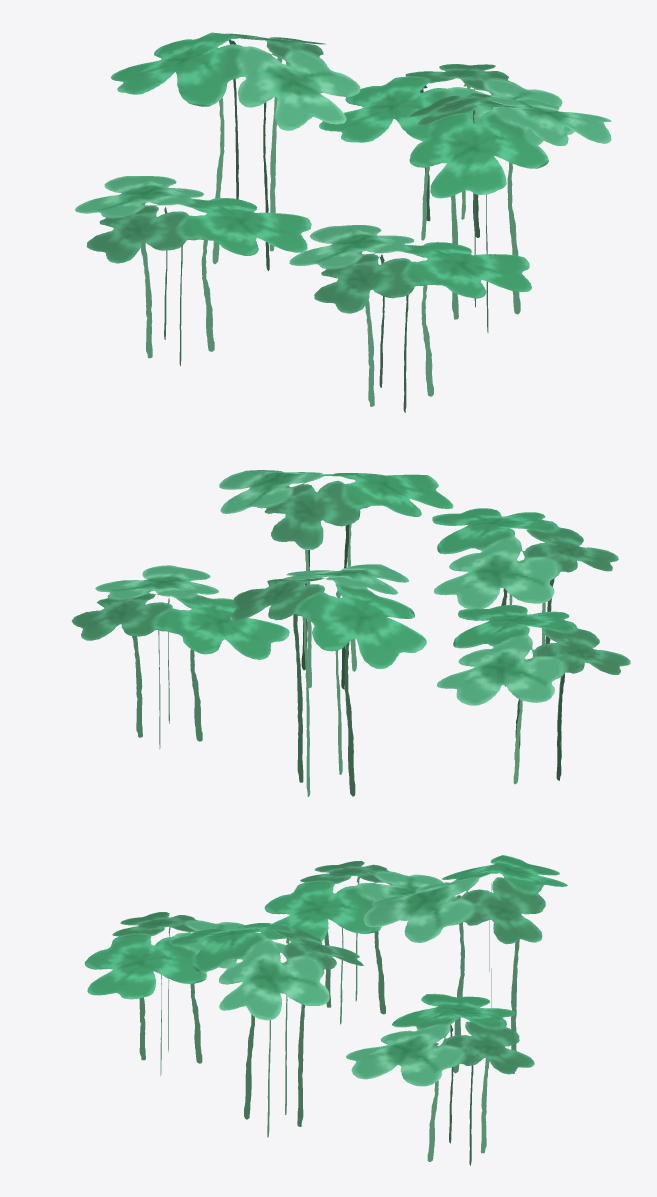
File: SM_ENV_plant_ancient_09_02.fbx
3 renders of one model, top to bottom at view 1: azimuth 30°, elevation 25°; view 2: azimuth 150°, elevation 25°; view 3: azimuth 270°, elevation 25°, orthographic. The views are drawn at different scales.
Visible parts, largest first — view 1: SM_ENV_plant_ancient_09_02_LOD0; view 2: SM_ENV_plant_ancient_09_02_LOD0; view 3: SM_ENV_plant_ancient_09_02_LOD0.
Part boxes in pixels (x1=…): SM_ENV_plant_ancient_09_02_LOD0: x1=75, y1=32, x2=611, y2=412; SM_ENV_plant_ancient_09_02_LOD0: x1=71, y1=470, x2=630, y2=796; SM_ENV_plant_ancient_09_02_LOD0: x1=84, y1=855, x2=567, y2=1165.
Size of the model in its own units: 48.69 by 17.71 by 49.32.
